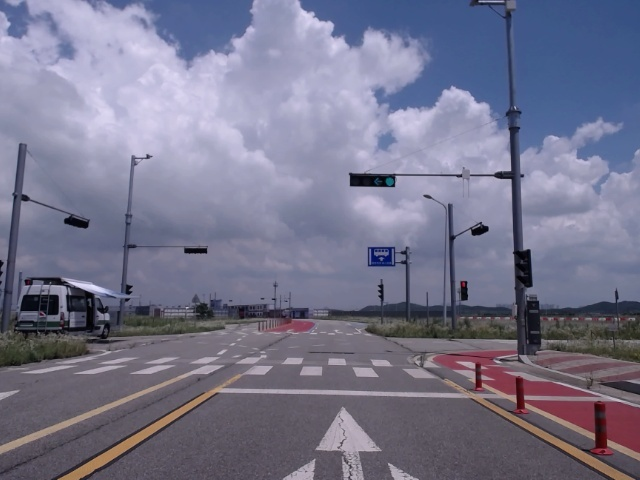all_green_4: (349, 174, 394, 187)
